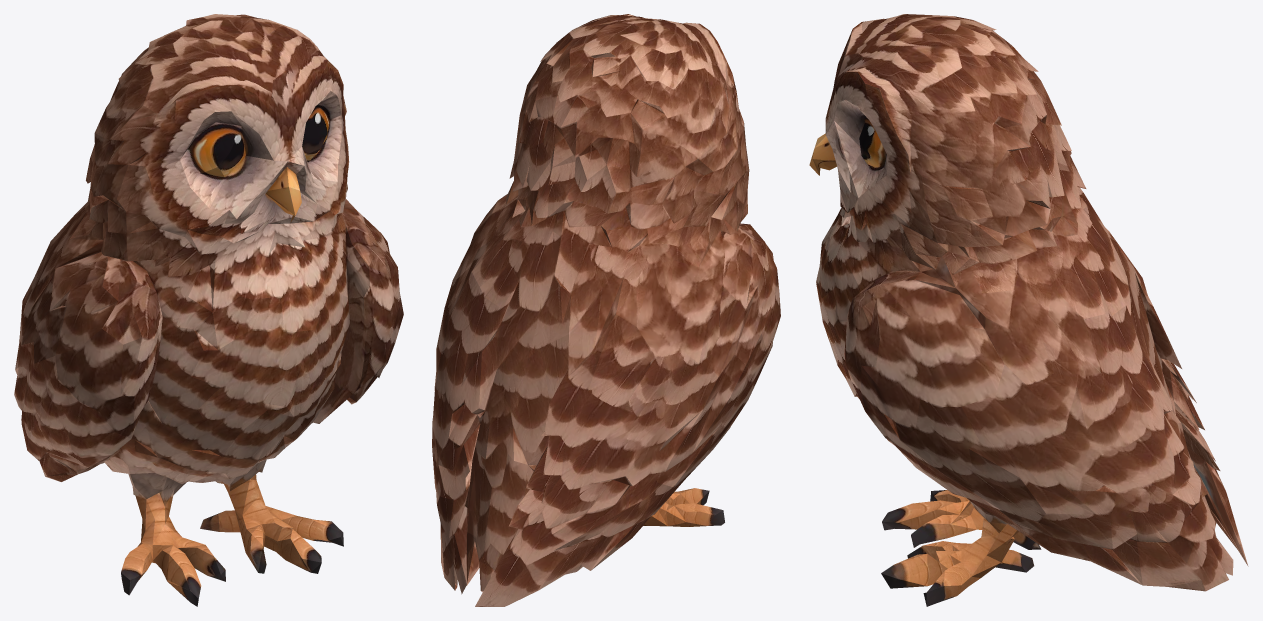
The model's file is owl.glb.
3 views of the same model, side by side, from view 1: azimuth 30°, elevation 25°; view 2: azimuth 150°, elevation 25°; view 3: azimuth 270°, elevation 25° (orthographic). The views are drawn at different scales.
Size of the model in its own units: 0.3476 by 0.55 by 0.4127.
1 material, 1 textured.
